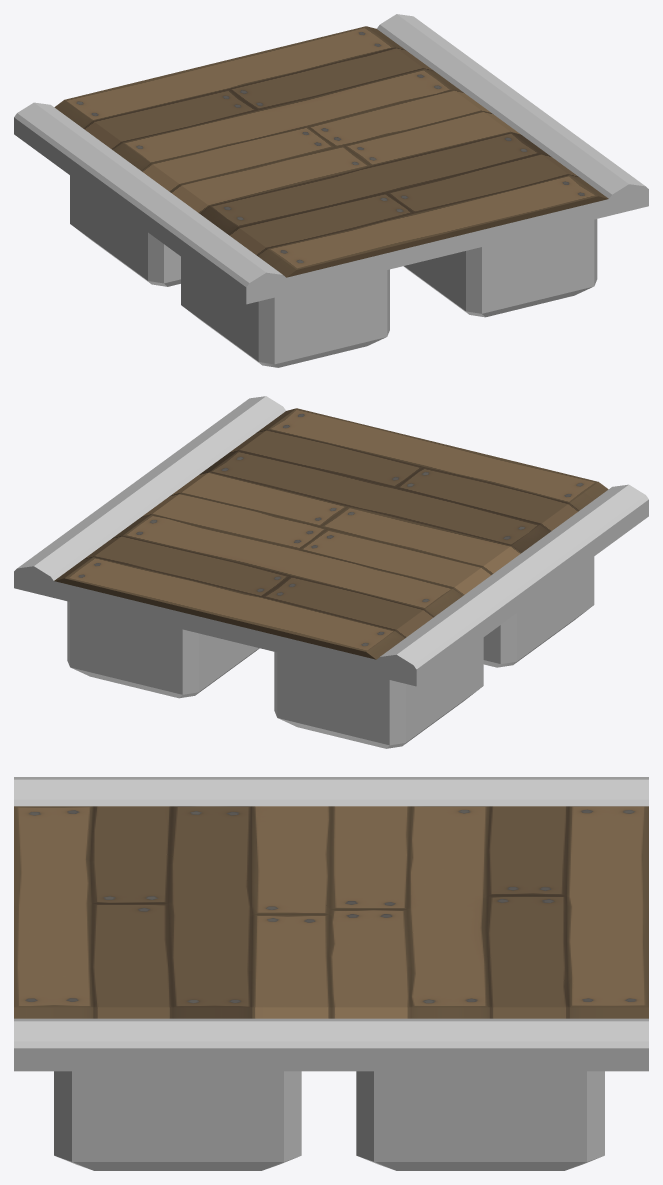
File: SM_Bld_Dock_Platform_01_Alt.fbx
3 renders of one model, top to bottom at view 1: azimuth 30°, elevation 25°; view 2: azimuth 150°, elevation 25°; view 3: azimuth 270°, elevation 25°, orthographic. The views are drawn at different scales.
Visible parts, largest first — view 1: SM_Bld_Dock_Platform_01_Alt; view 2: SM_Bld_Dock_Platform_01_Alt; view 3: SM_Bld_Dock_Platform_01_Alt.
Part boxes in pixels (left/top/right/bottom): SM_Bld_Dock_Platform_01_Alt: left=14, top=14, right=648, bottom=367; SM_Bld_Dock_Platform_01_Alt: left=14, top=396, right=648, bottom=748; SM_Bld_Dock_Platform_01_Alt: left=14, top=777, right=648, bottom=1170.
Bounding box in the file's own units: 250 × 71.48 × 250.
